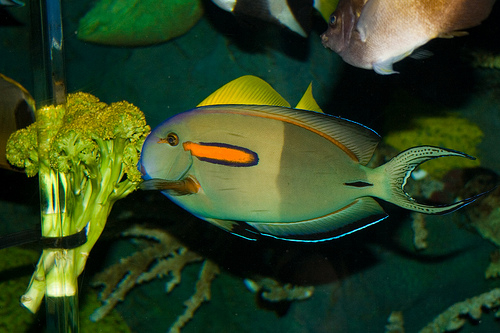broccoli: (7, 86, 154, 314)
